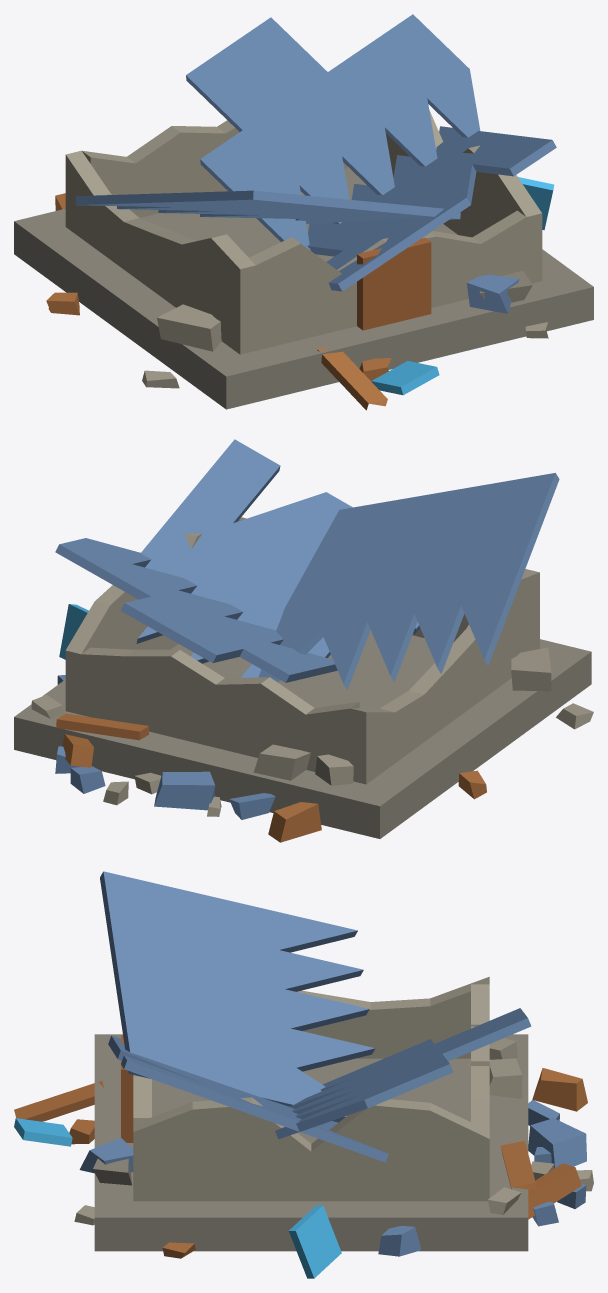
The model's file is house_t2_v3_dmg2.glb.
The picture shows the model from 3 angles, top to bottom: view 1: azimuth 30°, elevation 25°; view 2: azimuth 150°, elevation 25°; view 3: azimuth 270°, elevation 25°; orthographic projection. The views are drawn at different scales.
Visible parts, largest first — view 1: house_t2_v3_dmg2; view 2: house_t2_v3_dmg2; view 3: house_t2_v3_dmg2.
Boxes of the visible parts, x1,y1,x2,y2 form: house_t2_v3_dmg2: (14, 14, 593, 410); house_t2_v3_dmg2: (14, 439, 593, 842); house_t2_v3_dmg2: (14, 871, 593, 1278).
Size of the model in its own units: 0.8907 by 0.3785 by 0.936.
1 material, 1 textured.
